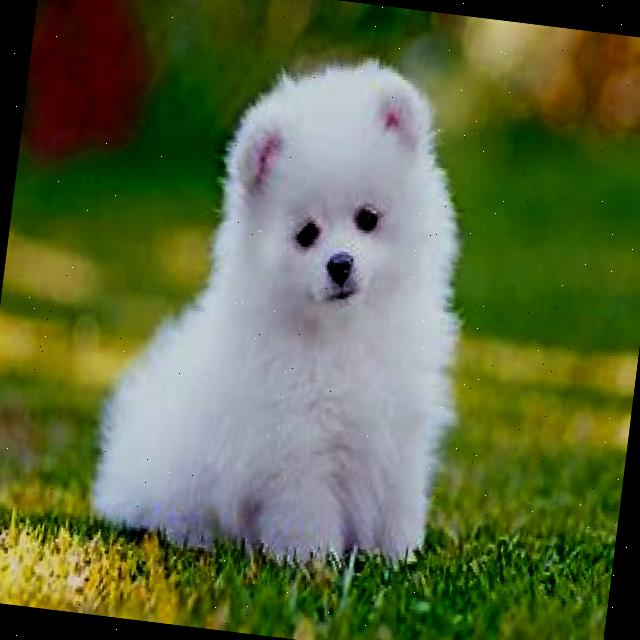pomeranian_dog: (190, 36, 467, 370)
